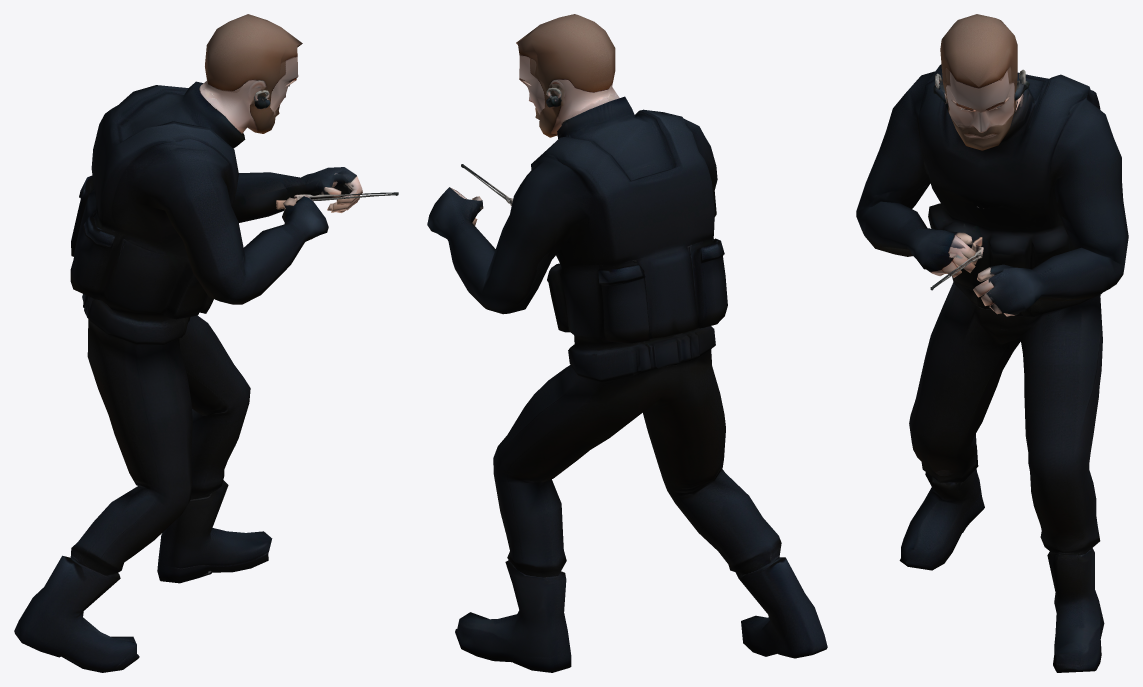
File: perso1.glb
3 renders of one model, left to right at view 1: azimuth 30°, elevation 25°; view 2: azimuth 150°, elevation 25°; view 3: azimuth 270°, elevation 25°, orthographic. The views are drawn at different scales.
Parts seen in each view (by area): view 1: tripo_node_5033f770-cf09-4523-ad17-e7587f4ee4fc; view 2: tripo_node_5033f770-cf09-4523-ad17-e7587f4ee4fc; view 3: tripo_node_5033f770-cf09-4523-ad17-e7587f4ee4fc.
Boxes of the visible parts, bbox=[...] form: tripo_node_5033f770-cf09-4523-ad17-e7587f4ee4fc: bbox=[14, 14, 398, 672]; tripo_node_5033f770-cf09-4523-ad17-e7587f4ee4fc: bbox=[427, 14, 827, 672]; tripo_node_5033f770-cf09-4523-ad17-e7587f4ee4fc: bbox=[856, 14, 1128, 672].
Size of the model in its own units: 0.6543 by 0.998 by 0.3926.
1 material, 1 textured.
